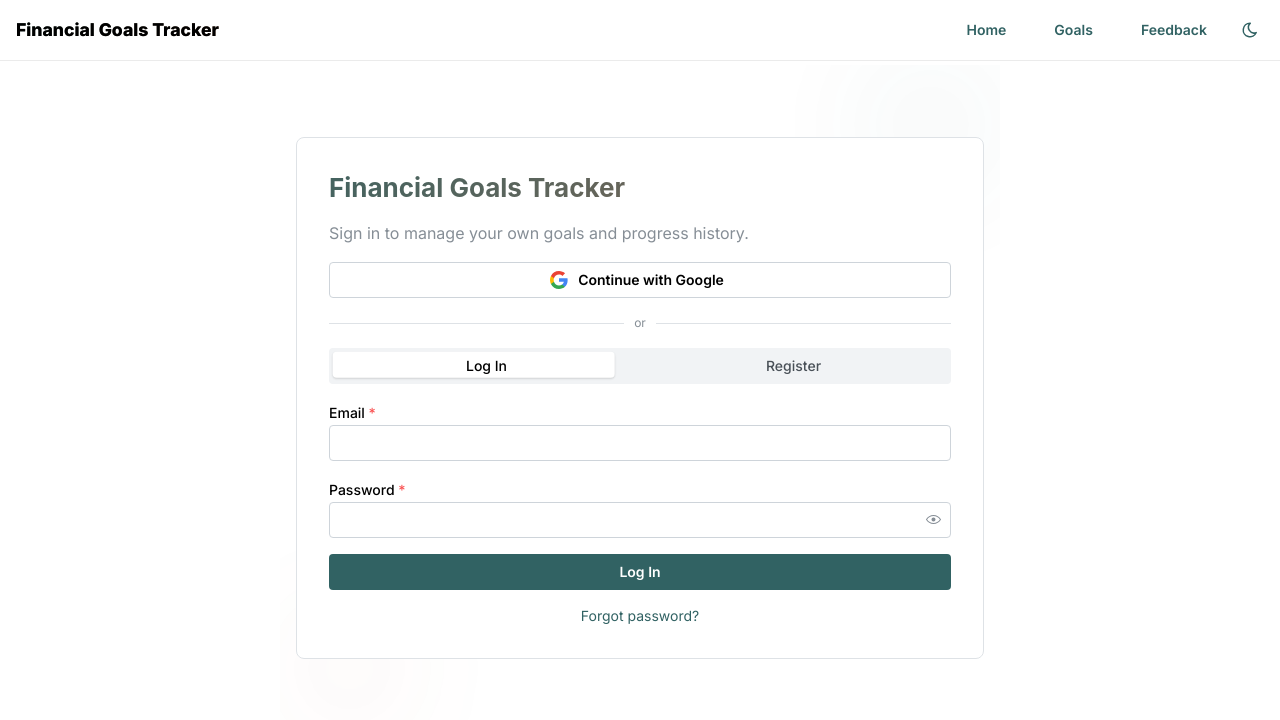
Scenario: Auth Page › hides forgot password link in register mode
Click the radio button "Register" at (794, 367), box [766,358,821,375]
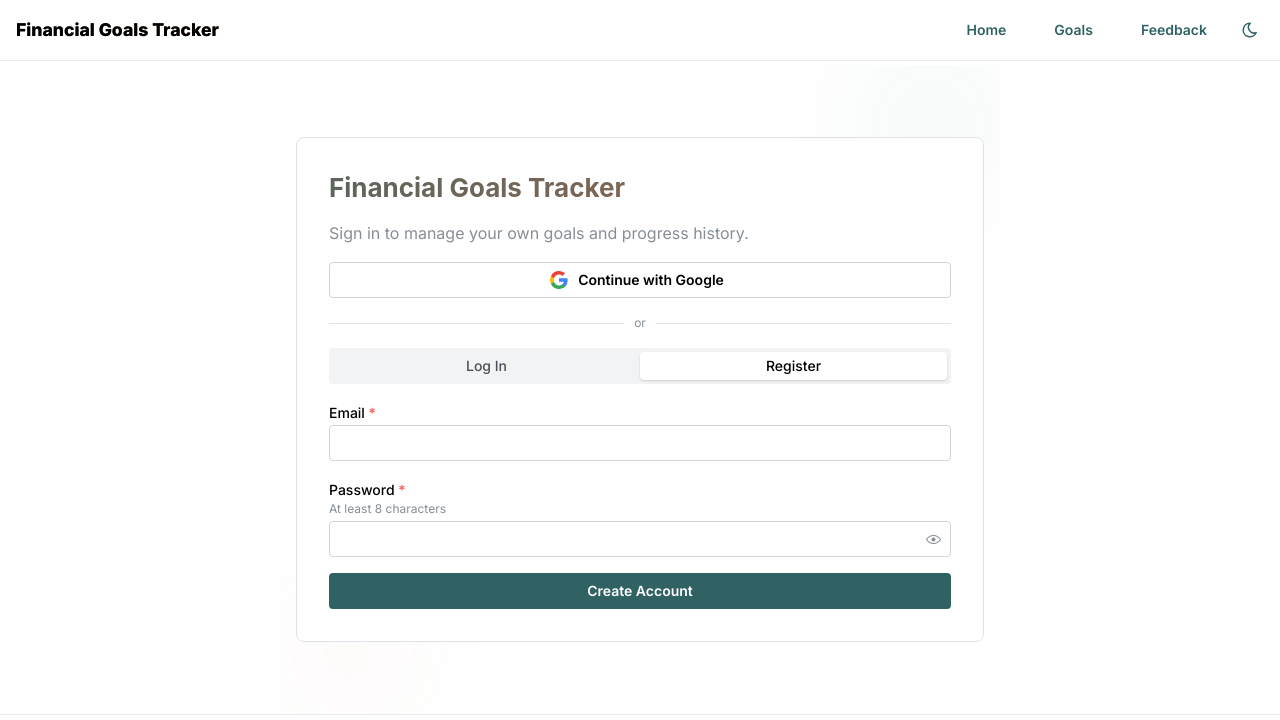
Result: the link "Forgot password?" is gone
